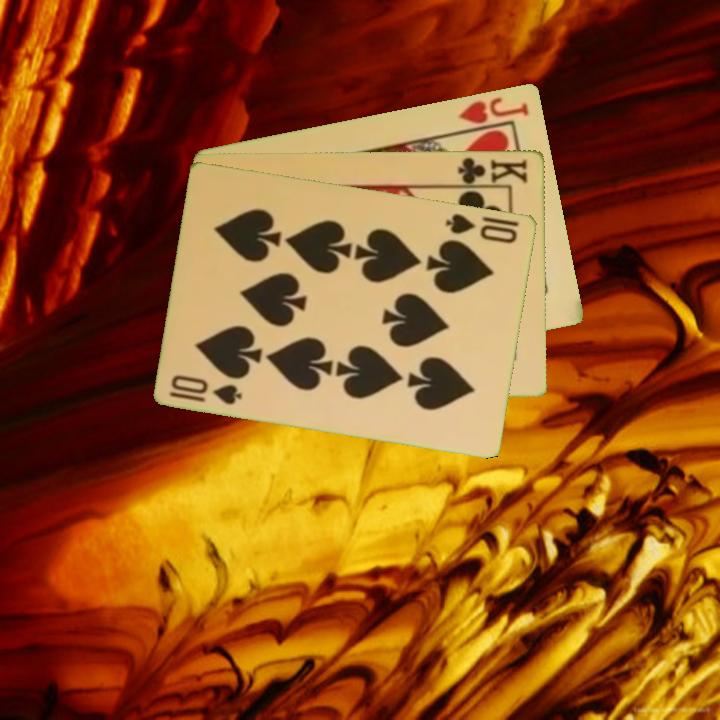10s: (442, 209, 521, 246), (166, 371, 246, 407)
Jh: (452, 93, 532, 136)
Kc: (451, 154, 531, 188)
